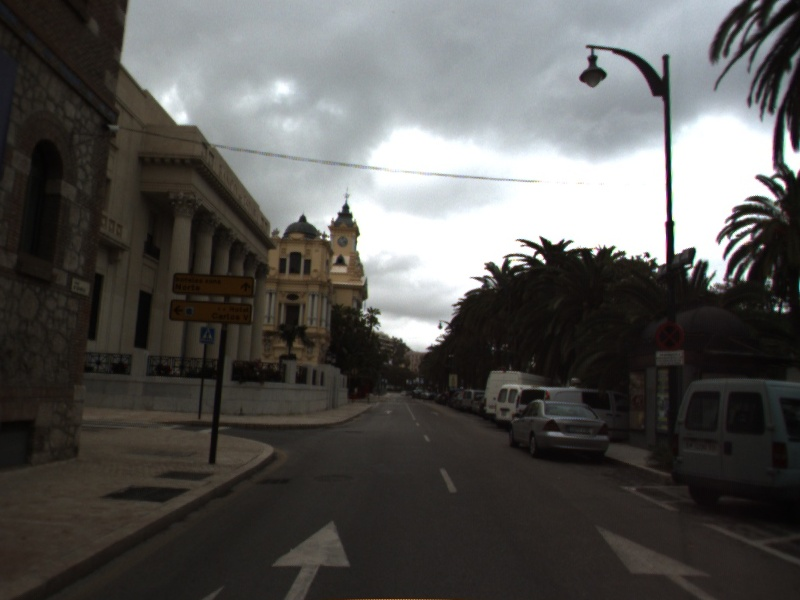STRAIGHT: (592, 523, 732, 600), (269, 518, 353, 600)
